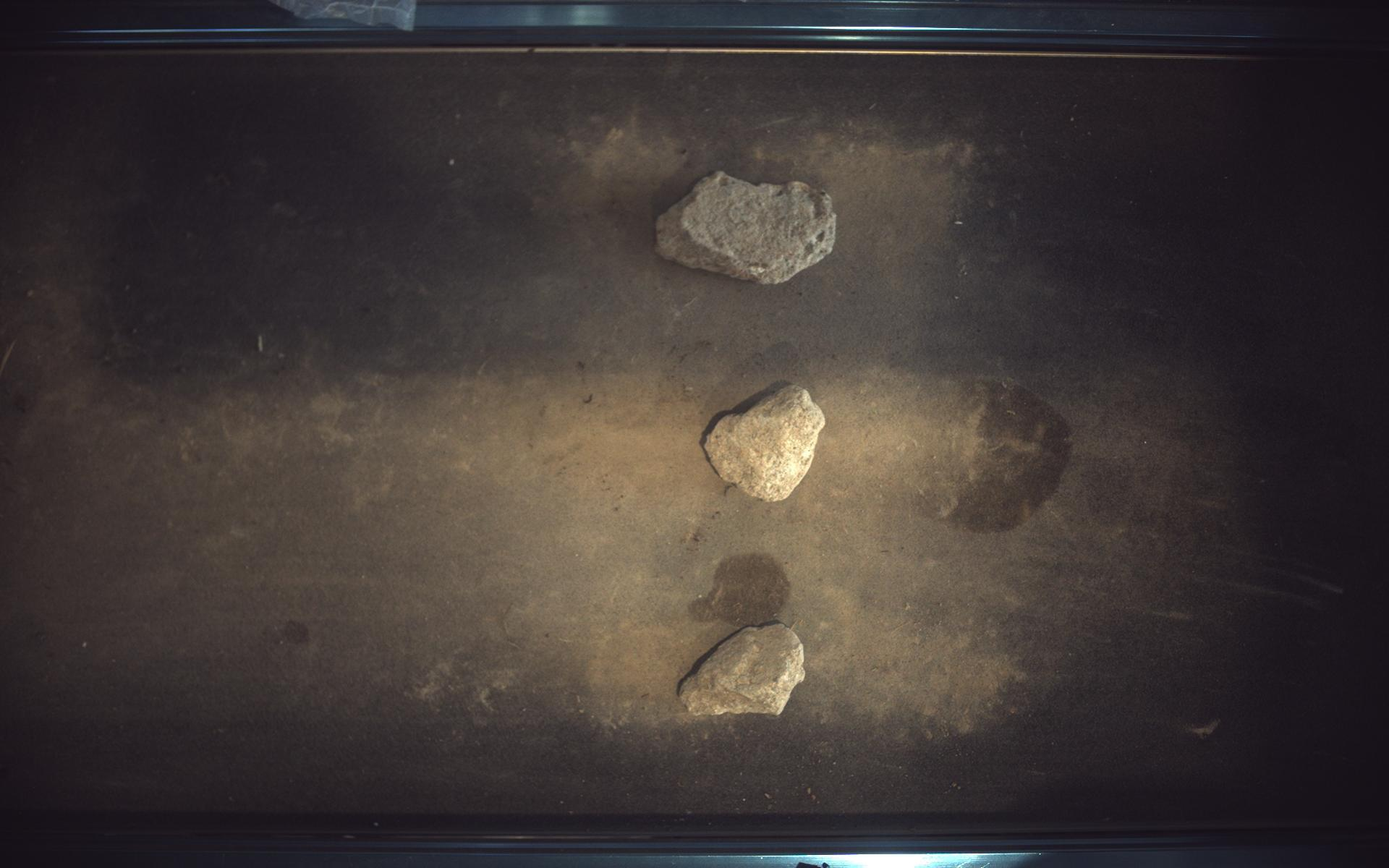stone: (657, 170, 838, 284), (705, 385, 827, 502), (681, 624, 807, 716)
